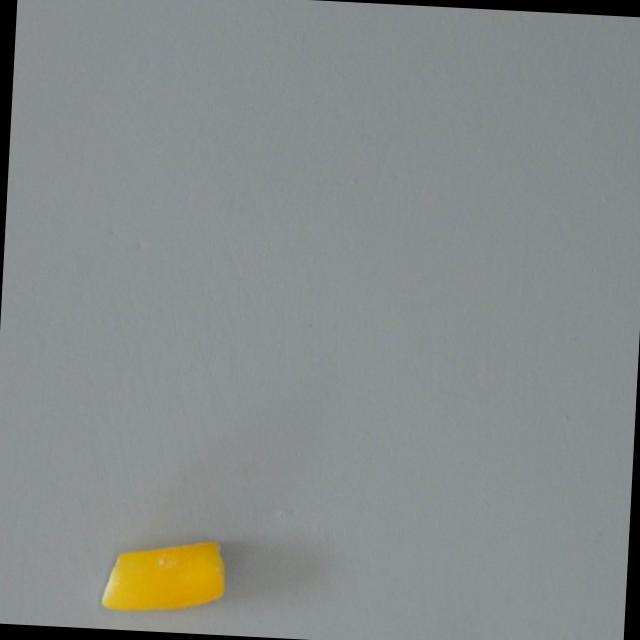pelicula: (98, 533, 232, 619)
